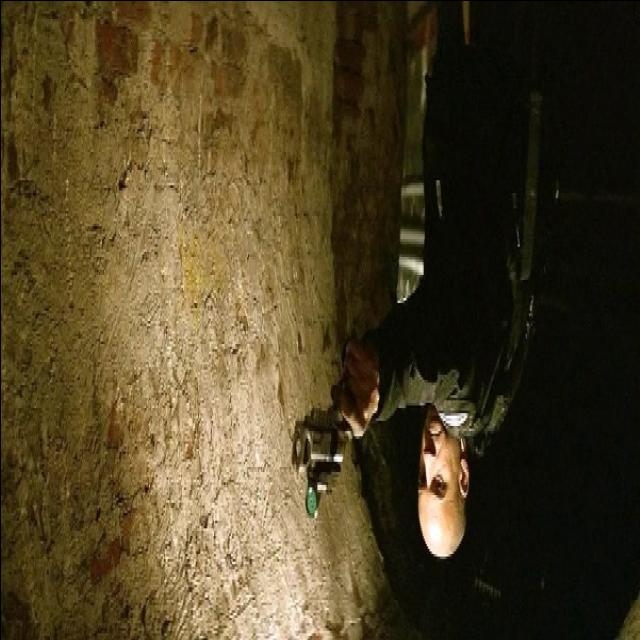weapons: (277, 320, 371, 525)
